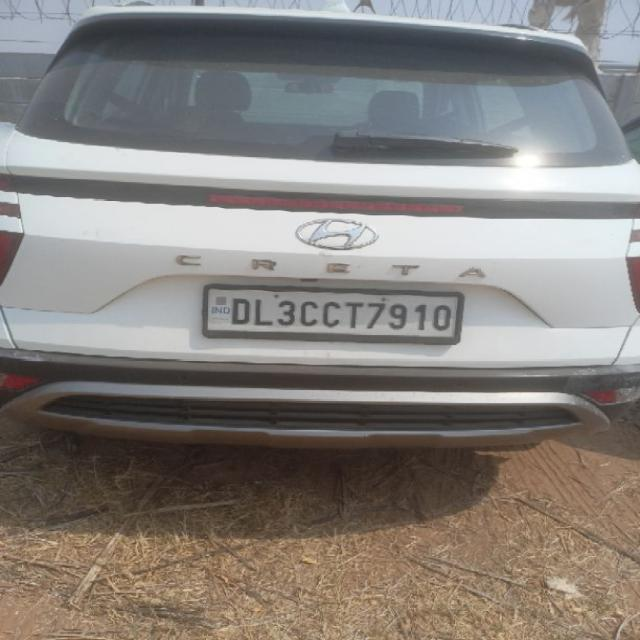license_plate: (201, 282, 464, 344)
